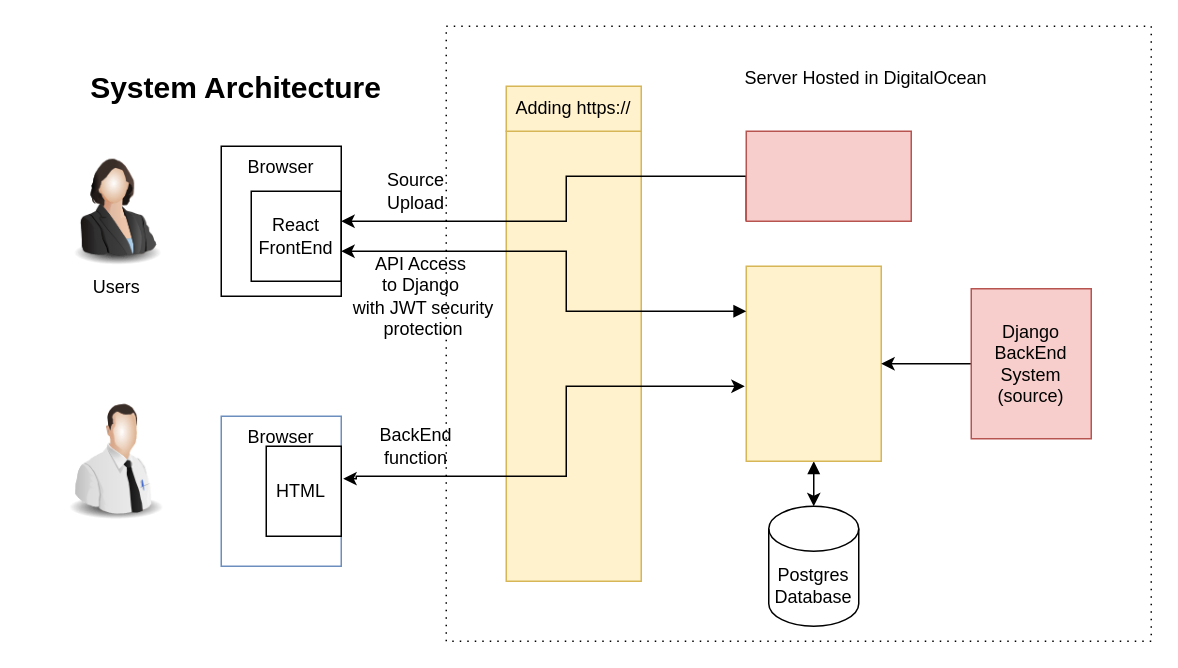
Image size: 1178x668. Some labels were removed from this diagram. Here are the shapes that lost their labels. From the top down, the box of each, then its label:
(745, 130, 911, 221): React dist (source)
(505, 130, 641, 581): Nginx Web Server
(745, 265, 881, 461): Gunicorn App Server
(56, 400, 176, 520): Staff
